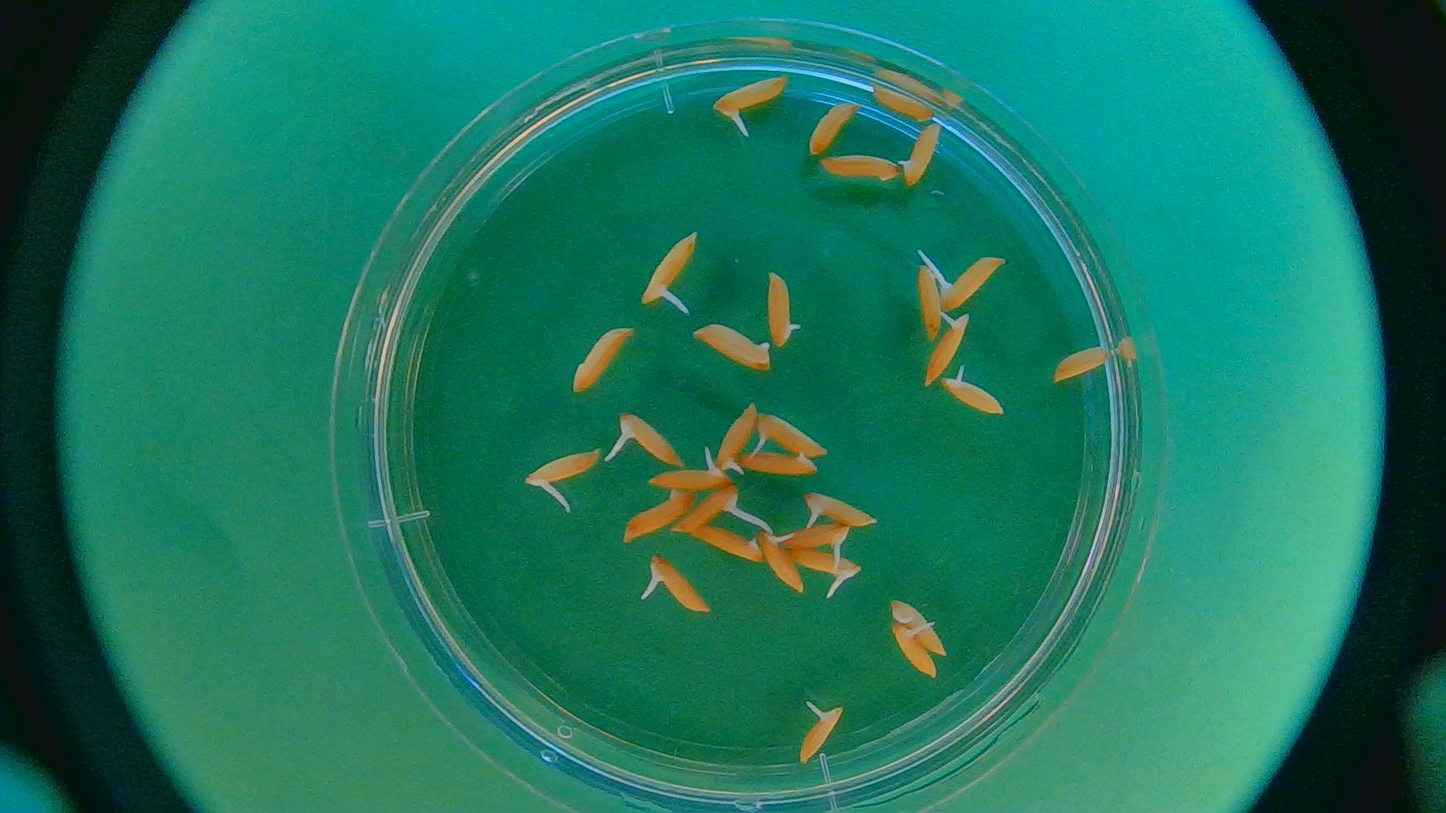no: (569, 325, 633, 396), (620, 488, 694, 545), (694, 322, 770, 370), (923, 311, 972, 385), (689, 519, 763, 565), (807, 97, 858, 158), (867, 81, 937, 122), (737, 446, 819, 478), (1050, 343, 1111, 386), (913, 261, 944, 344), (818, 152, 901, 181)
yes: (888, 583, 954, 656), (938, 255, 1003, 312), (755, 411, 831, 458), (621, 411, 683, 467), (709, 73, 787, 117), (643, 233, 694, 300), (667, 489, 738, 537), (647, 557, 708, 612), (798, 700, 846, 767), (803, 488, 877, 531), (758, 529, 804, 598), (716, 402, 760, 473), (646, 461, 732, 494), (896, 124, 941, 187), (525, 449, 597, 488), (763, 271, 799, 348), (793, 549, 862, 587), (780, 523, 851, 559), (890, 623, 937, 674), (941, 379, 1002, 415)
